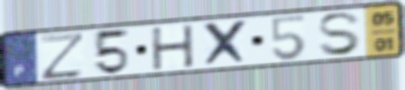5: (90, 27, 132, 76), (269, 13, 308, 63)
H: (149, 23, 198, 72)
S: (316, 10, 364, 57)
X: (200, 18, 251, 69)
Z: (38, 31, 88, 83)
